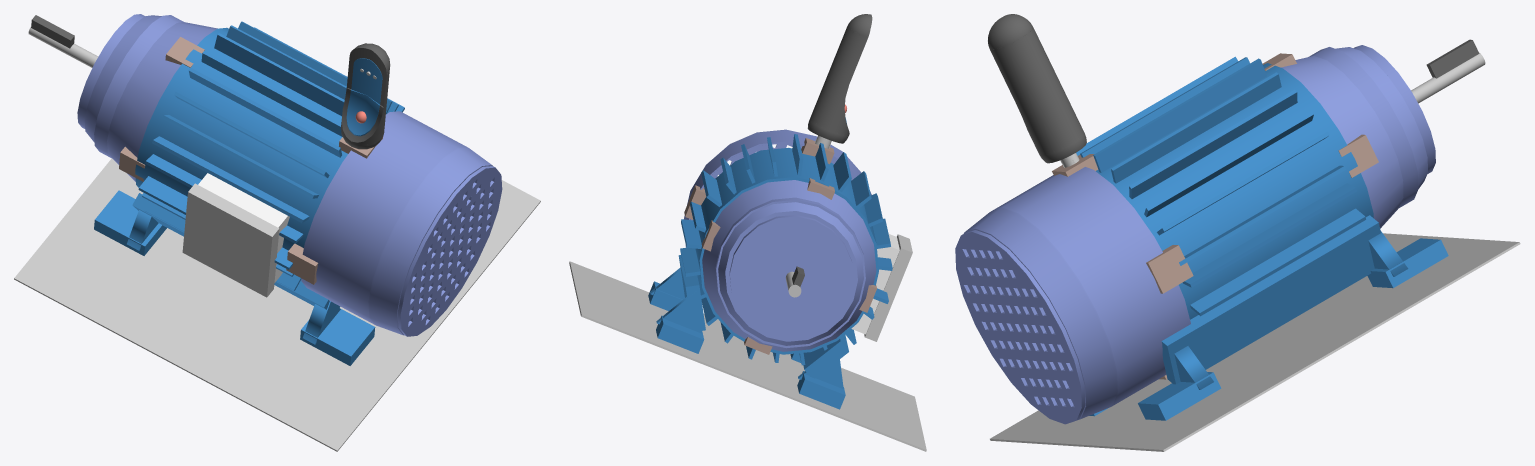
File: MotorSensorV22.glb
3 views of the same model, side by side, from view 1: azimuth 30°, elevation 25°; view 2: azimuth 150°, elevation 25°; view 3: azimuth 270°, elevation 25° (orthographic). The views are drawn at different scales.
Parts seen in each view (by area): view 1: Objeto.001, Objeto.054, Objeto.042, Objeto.044, Objeto.051, Objeto.043, Objeto.069, Objeto.070, Objeto.066, Objeto.049, Objeto.048, Objeto.067 (+23 smaller); view 2: Objeto.001, Objeto.072, Objeto.069, Objeto.054, Objeto.071, Objeto.009, Objeto.042, Objeto.070, Objeto.051, Objeto.046, Objeto.038, Objeto.048 (+19 smaller); view 3: Objeto.054, Objeto.001, Objeto.042, Objeto.044, Objeto.035, Objeto.043, Objeto.069, Objeto.009, Objeto.066, Objeto.070, Objeto.065, Objeto.061 (+18 smaller).
Boxes of the visible parts, box(x1,y1,x2,y2) form: Objeto.001: box(14, 158, 540, 451); Objeto.054: box(135, 27, 387, 250); Objeto.042: box(301, 111, 468, 325); Objeto.044: box(397, 166, 502, 336); Objeto.051: box(182, 183, 279, 297); Objeto.043: box(369, 148, 492, 335); Objeto.069: box(107, 22, 217, 181); Objeto.070: box(94, 15, 183, 158); Objeto.066: box(214, 33, 344, 116); Objeto.049: box(300, 308, 375, 365); Objeto.048: box(94, 190, 166, 255); Objeto.067: box(201, 51, 342, 136); Objeto.001: box(569, 261, 926, 451); Objeto.072: box(729, 215, 853, 339); Objeto.069: box(702, 180, 876, 351); Objeto.054: box(695, 147, 878, 354); Objeto.071: box(718, 202, 863, 345); Objeto.009: box(809, 27, 867, 136); Objeto.042: box(684, 130, 871, 247); Objeto.070: box(715, 197, 865, 348); Objeto.051: box(864, 234, 912, 341); Objeto.046: box(803, 334, 848, 378); Objeto.038: box(656, 315, 704, 353); Objeto.048: box(797, 371, 845, 409); Objeto.054: box(1096, 63, 1373, 319); Objeto.001: box(990, 233, 1520, 451); Objeto.042: box(991, 167, 1190, 406); Objeto.044: box(955, 230, 1085, 424); Objeto.035: box(1161, 215, 1380, 384); Objeto.043: box(963, 208, 1116, 420); Objeto.069: box(1281, 56, 1403, 228); Objeto.009: box(990, 28, 1084, 155); Objeto.066: box(1093, 58, 1266, 172); Objeto.070: box(1309, 47, 1418, 207); Objeto.065: box(1111, 72, 1281, 183); Objeto.061: box(1190, 208, 1365, 316).
Bounding box in the file's own units: 1350 × 1125 × 1289.
